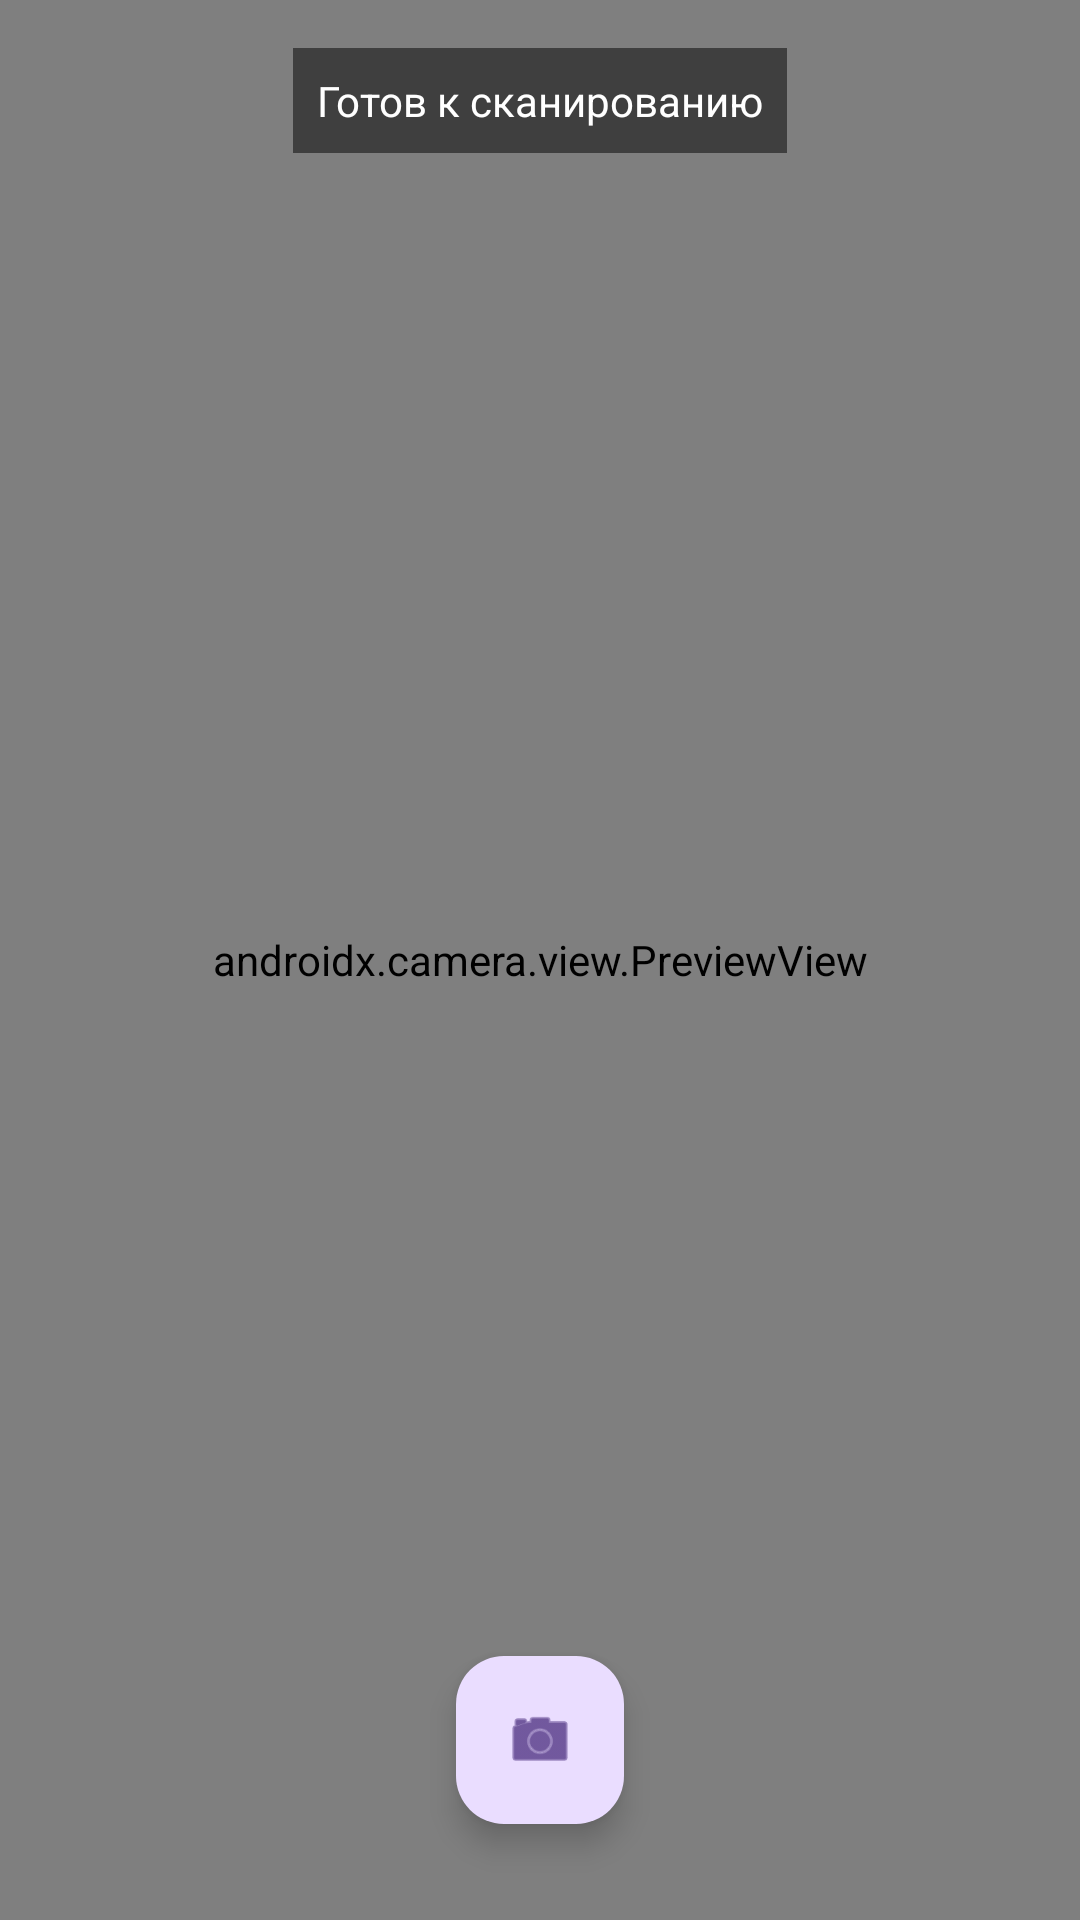

Named icons in this screenshot (1080px x 1920px) and their centers, (x,y):
Сделать снимок: (540,1740)
